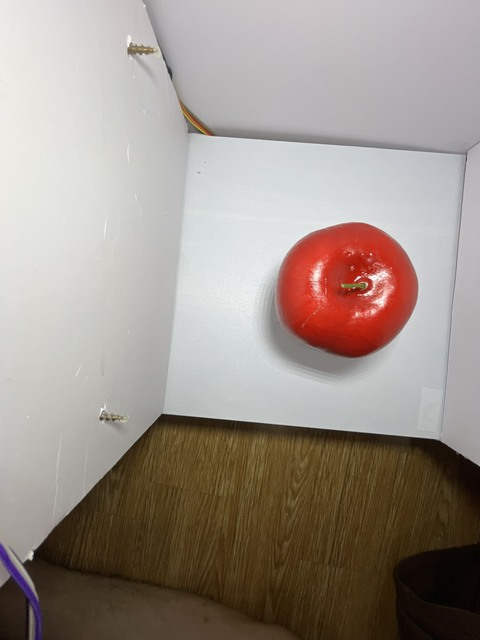Tao: (276, 216, 424, 361)
